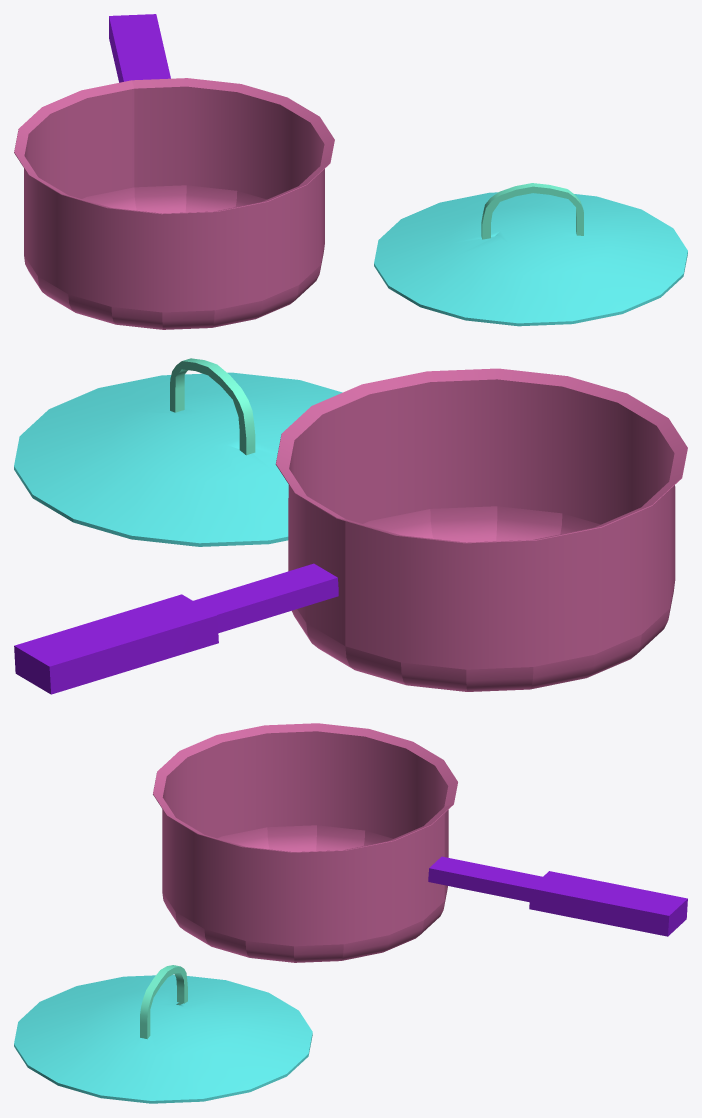
The picture shows the model from 3 angles, top to bottom: view 1: azimuth 30°, elevation 25°; view 2: azimuth 150°, elevation 25°; view 3: azimuth 270°, elevation 25°; orthographic projection. The views are drawn at different scales.
Visible parts, largest first — view 1: split_parent_3, split_parent_1, Object_4, Object_4.018; view 2: split_parent_3, split_parent_1, Object_4, Object_4.018; view 3: split_parent_3, split_parent_1, Object_4, Object_4.018.
Part boxes in pixels (<box>): split_parent_3: <box>14,78,334,329</box>; split_parent_1: <box>374,192,687,326</box>; Object_4: <box>109,14,170,82</box>; Object_4.018: <box>481,183,583,239</box>; split_parent_3: <box>275,368,687,691</box>; split_parent_1: <box>14,372,342,546</box>; Object_4: <box>14,563,338,694</box>; Object_4.018: <box>170,358,255,455</box>; split_parent_3: <box>153,723,457,962</box>; split_parent_1: <box>14,974,312,1103</box>; Object_4: <box>428,856,687,936</box>; Object_4.018: <box>140,965,187,1039</box>.
Size of the model in its own units: 0.9083 by 0.2009 by 1.
